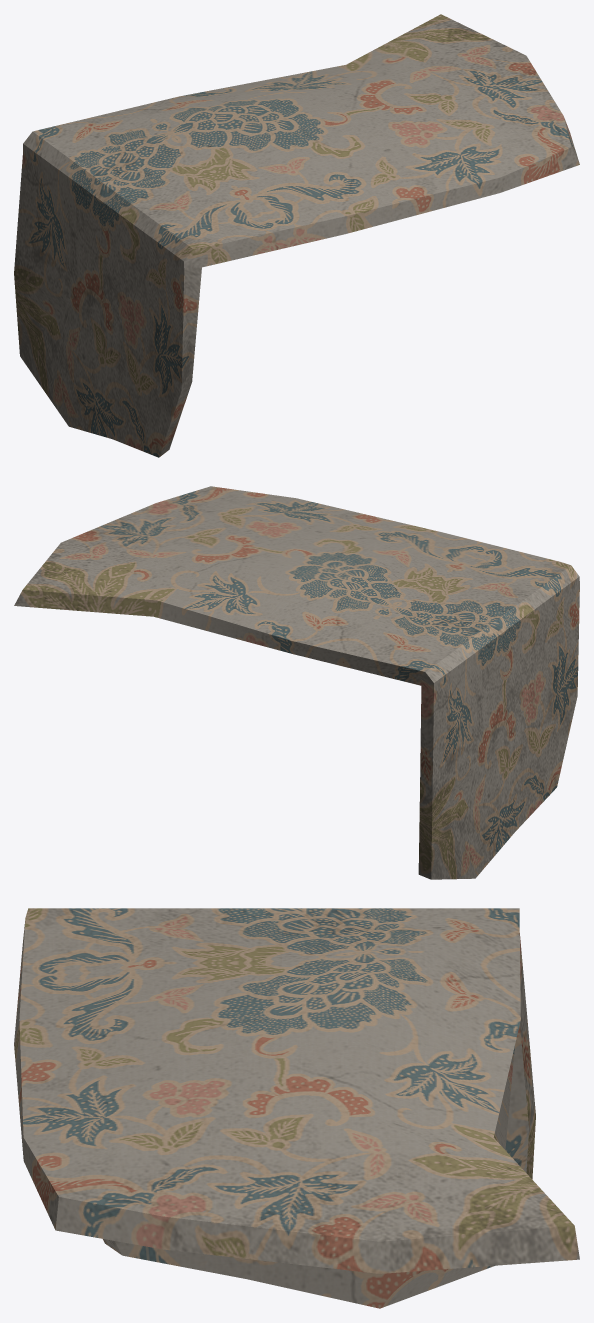
File: KainBatik1.fbx
The picture shows the model from 3 angles, top to bottom: view 1: azimuth 30°, elevation 25°; view 2: azimuth 150°, elevation 25°; view 3: azimuth 270°, elevation 25°; orthographic projection. The views are drawn at different scales.
Parts seen in each view (by area): view 1: Box021; view 2: Box021; view 3: Box021.
Part boxes in pixels (x1,y1,x2,y2): Box021: (14,14,579,457); Box021: (14,486,579,879); Box021: (14,908,579,1308).
Bounding box in the file's own units: 13.83 × 8.04 × 9.53.
